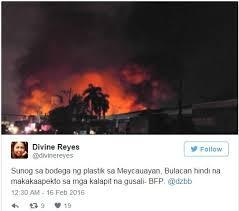fire: (14, 60, 157, 115)
